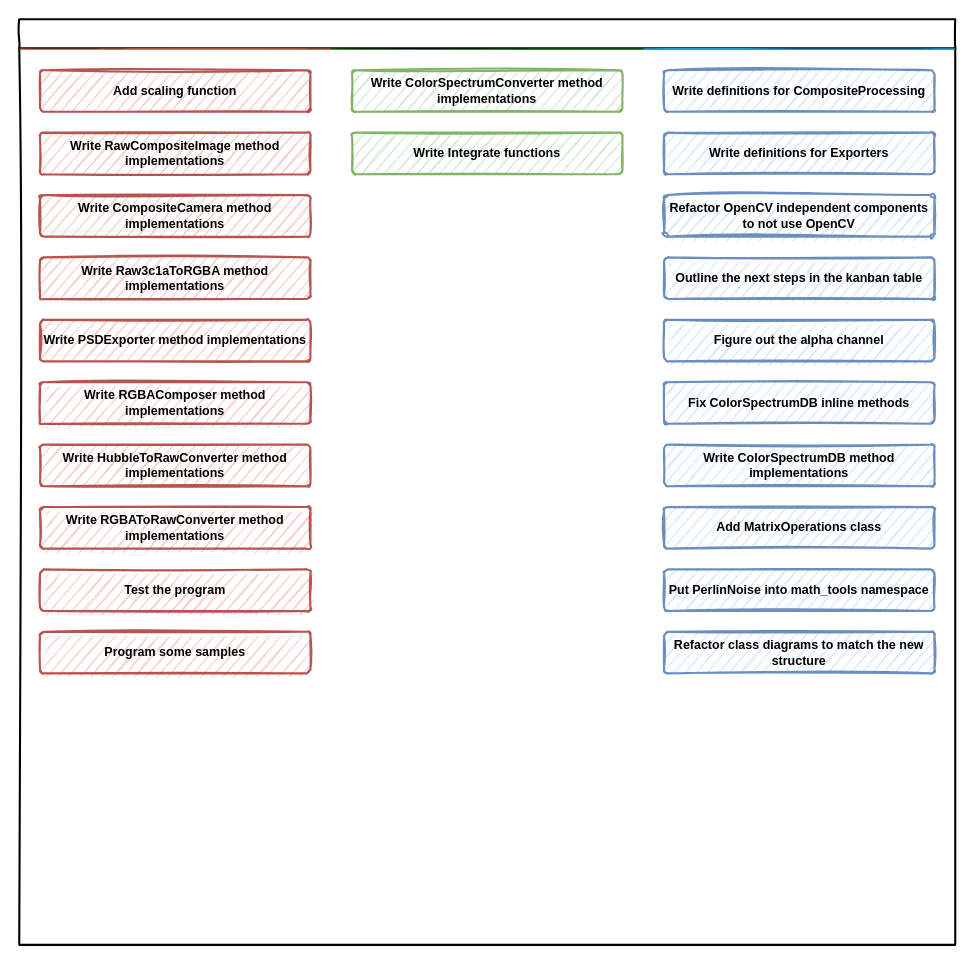
Some shapes in this 973 by 963 pixel diagram are drawn without their labels. Here are the shapes that lost their labels. From the top down, the box of each, then its label:
(19, 48, 331, 944): TO DO
(331, 48, 643, 944): DOING
(643, 48, 955, 944): DONE
